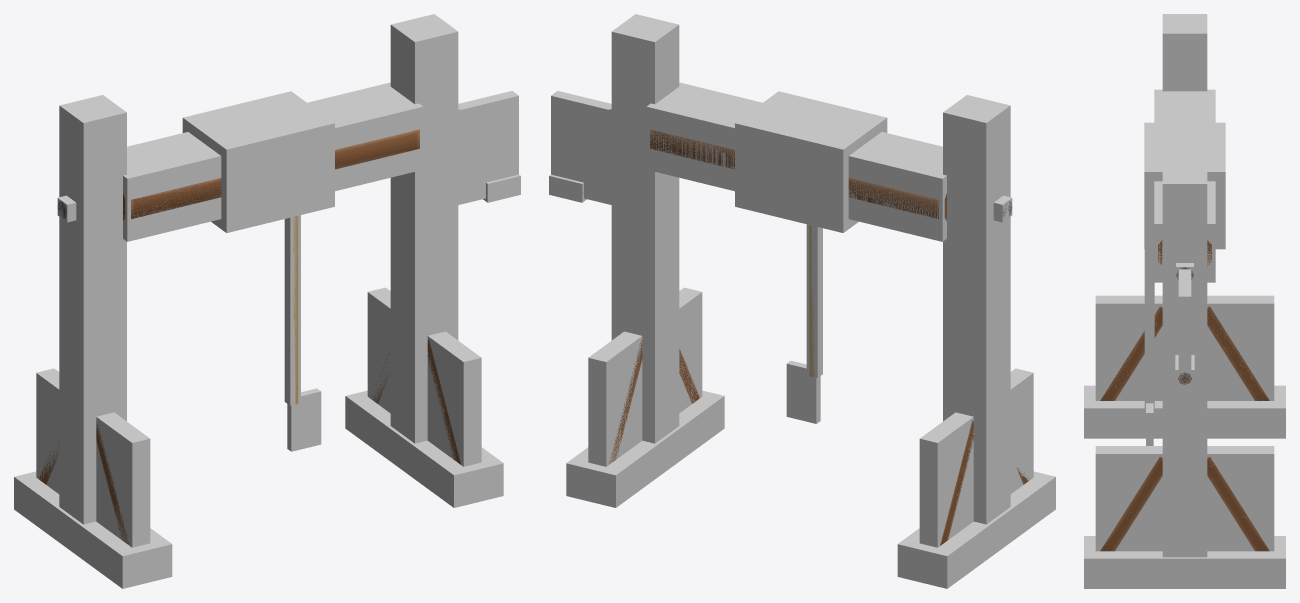
Rendered from well_winch.glb.
3 renders of one model, left to right at view 1: azimuth 30°, elevation 25°; view 2: azimuth 150°, elevation 25°; view 3: azimuth 270°, elevation 25°, orthographic. The views are drawn at different scales.
Visible parts, largest first — view 1: COL_well_winch_03, COL_well_winch_02, COL_well_winch_09, COL_well_winch_01, COL_well_winch_00, COL_well_winch_05, COL_well_winch_04, COL_well_winch_19, drum, COL_well_winch_20, COL_well_winch_06, COL_well_winch_07 (+14 smaller); view 2: COL_well_winch_03, COL_well_winch_02, COL_well_winch_09, COL_well_winch_01, COL_well_winch_00, COL_well_winch_06, COL_well_winch_07, COL_well_winch_19, drum, COL_well_winch_05, COL_well_winch_10, COL_well_winch_04 (+13 smaller); view 3: COL_well_winch_02, COL_well_winch_00, COL_well_winch_01, COL_well_winch_07, COL_well_winch_06, COL_well_winch_04, COL_well_winch_05, COL_well_winch_09, COL_well_winch_03, COL_well_winch_18, COL_well_winch_20, COL_well_winch_19 (+14 smaller).
Part boxes in pixels (bbox=[...]): COL_well_winch_03: bbox=[59, 95, 126, 524]; COL_well_winch_02: bbox=[390, 14, 458, 443]; COL_well_winch_09: bbox=[123, 82, 423, 241]; COL_well_winch_01: bbox=[14, 471, 172, 588]; COL_well_winch_00: bbox=[345, 390, 503, 507]; COL_well_winch_05: bbox=[96, 412, 150, 547]; COL_well_winch_04: bbox=[427, 331, 481, 466]; COL_well_winch_19: bbox=[458, 91, 518, 204]; drum: bbox=[123, 129, 419, 220]; COL_well_winch_20: bbox=[284, 215, 300, 405]; COL_well_winch_06: bbox=[367, 287, 390, 413]; COL_well_winch_07: bbox=[36, 368, 59, 493]; COL_well_winch_03: bbox=[943, 95, 1010, 524]; COL_well_winch_02: bbox=[611, 14, 679, 443]; COL_well_winch_09: bbox=[646, 82, 946, 241]; COL_well_winch_01: bbox=[897, 471, 1055, 588]; COL_well_winch_00: bbox=[566, 390, 724, 507]; COL_well_winch_06: bbox=[588, 331, 642, 466]; COL_well_winch_07: bbox=[919, 412, 973, 547]; COL_well_winch_19: bbox=[551, 91, 611, 204]; drum: bbox=[650, 129, 946, 220]; COL_well_winch_05: bbox=[1010, 368, 1033, 493]; COL_well_winch_10: bbox=[830, 114, 887, 232]; COL_well_winch_04: bbox=[679, 287, 702, 413]; COL_well_winch_02: bbox=[1162, 164, 1207, 557]; COL_well_winch_00: bbox=[1084, 536, 1285, 588]; COL_well_winch_01: bbox=[1084, 385, 1285, 438]; COL_well_winch_07: bbox=[1207, 295, 1274, 400]; COL_well_winch_06: bbox=[1207, 446, 1274, 551]; COL_well_winch_04: bbox=[1095, 446, 1162, 551]; COL_well_winch_05: bbox=[1095, 295, 1162, 400]; COL_well_winch_09: bbox=[1154, 89, 1215, 282]; COL_well_winch_03: bbox=[1162, 14, 1207, 91]; COL_well_winch_18: bbox=[1144, 166, 1225, 249]; COL_well_winch_20: bbox=[1144, 249, 1154, 409]; COL_well_winch_19: bbox=[1178, 269, 1191, 384].
Size of the model in its own units: 1.5 by 1.38 by 0.6244.
3 materials, 3 textured.
